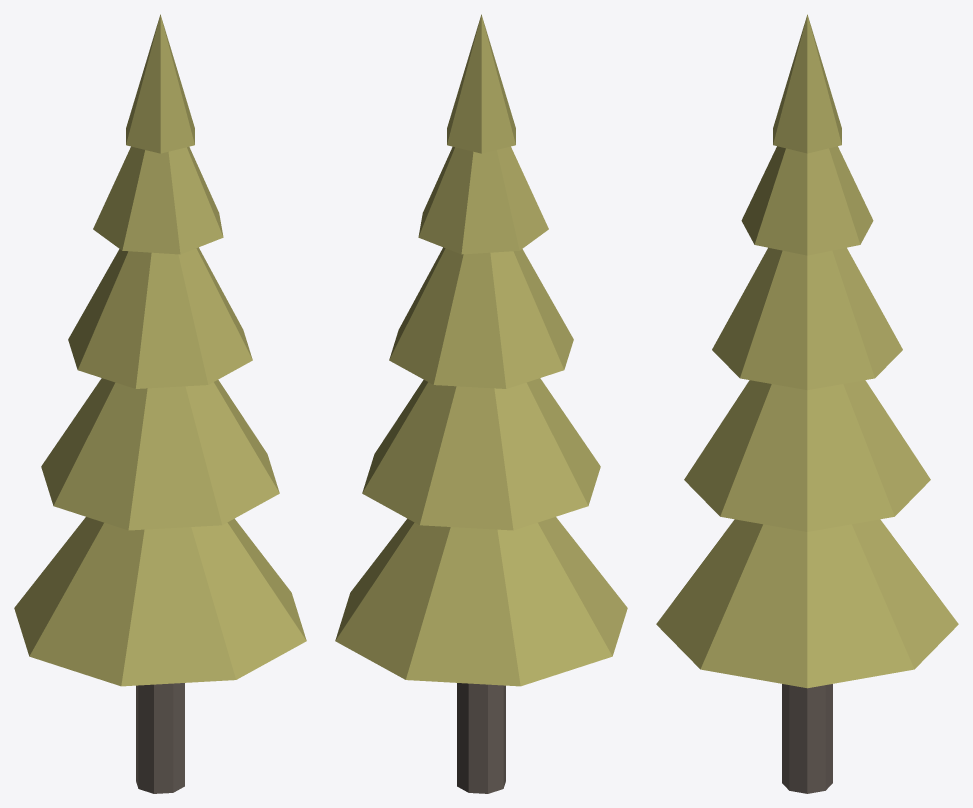
File: haunted_pine_tall.glb
3 renders of one model, left to right at view 1: azimuth 30°, elevation 25°; view 2: azimuth 150°, elevation 25°; view 3: azimuth 270°, elevation 25°, orthographic.
Parts seen in each view (by area): view 1: Haunted_Pine_Tall; view 2: Haunted_Pine_Tall; view 3: Haunted_Pine_Tall.
Part boxes in pixels (<box>): Haunted_Pine_Tall: <box>14,14,306,793</box>; Haunted_Pine_Tall: <box>335,14,627,793</box>; Haunted_Pine_Tall: <box>656,14,958,793</box>.
Size of the model in its own units: 3.8 by 10.65 by 3.8.
